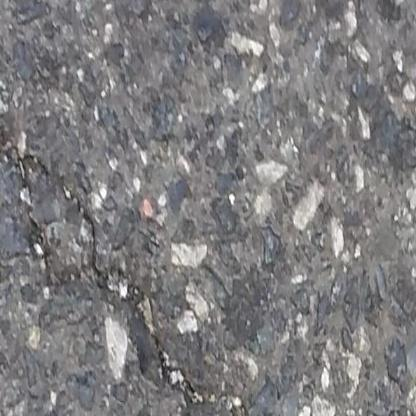Cracks: (0, 115, 262, 416)
